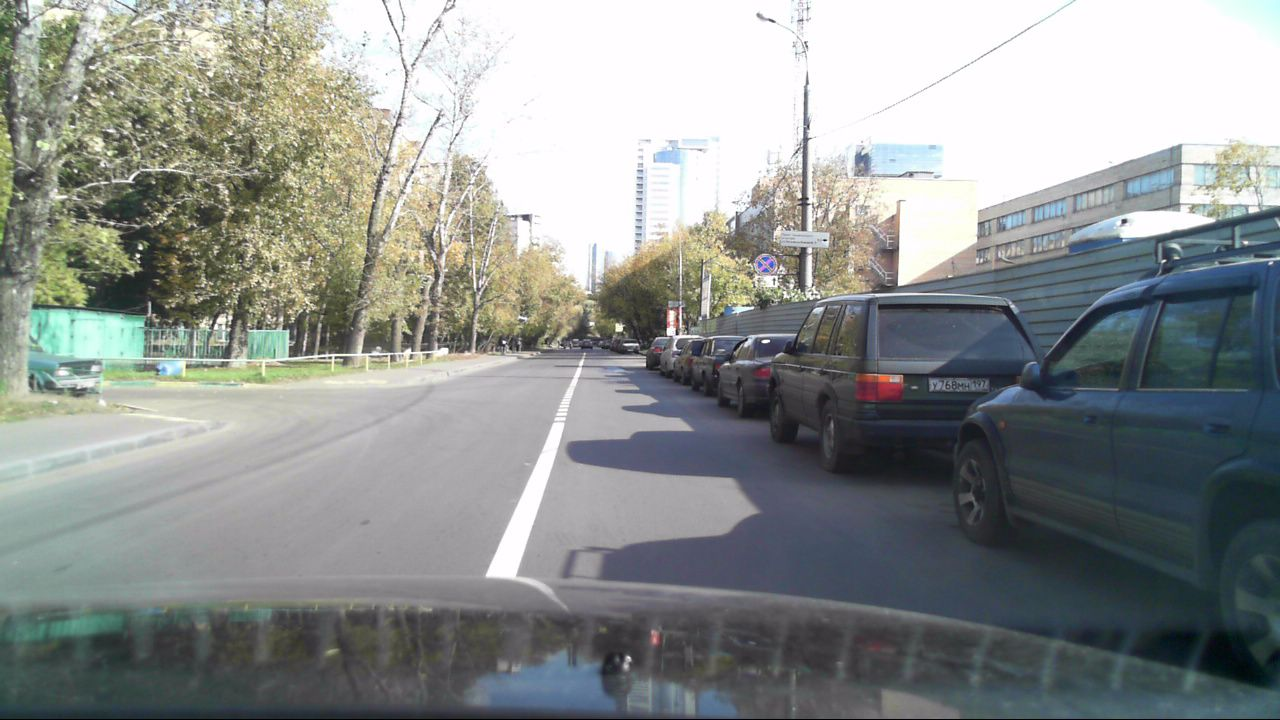No Parking: (752, 250, 778, 276)
